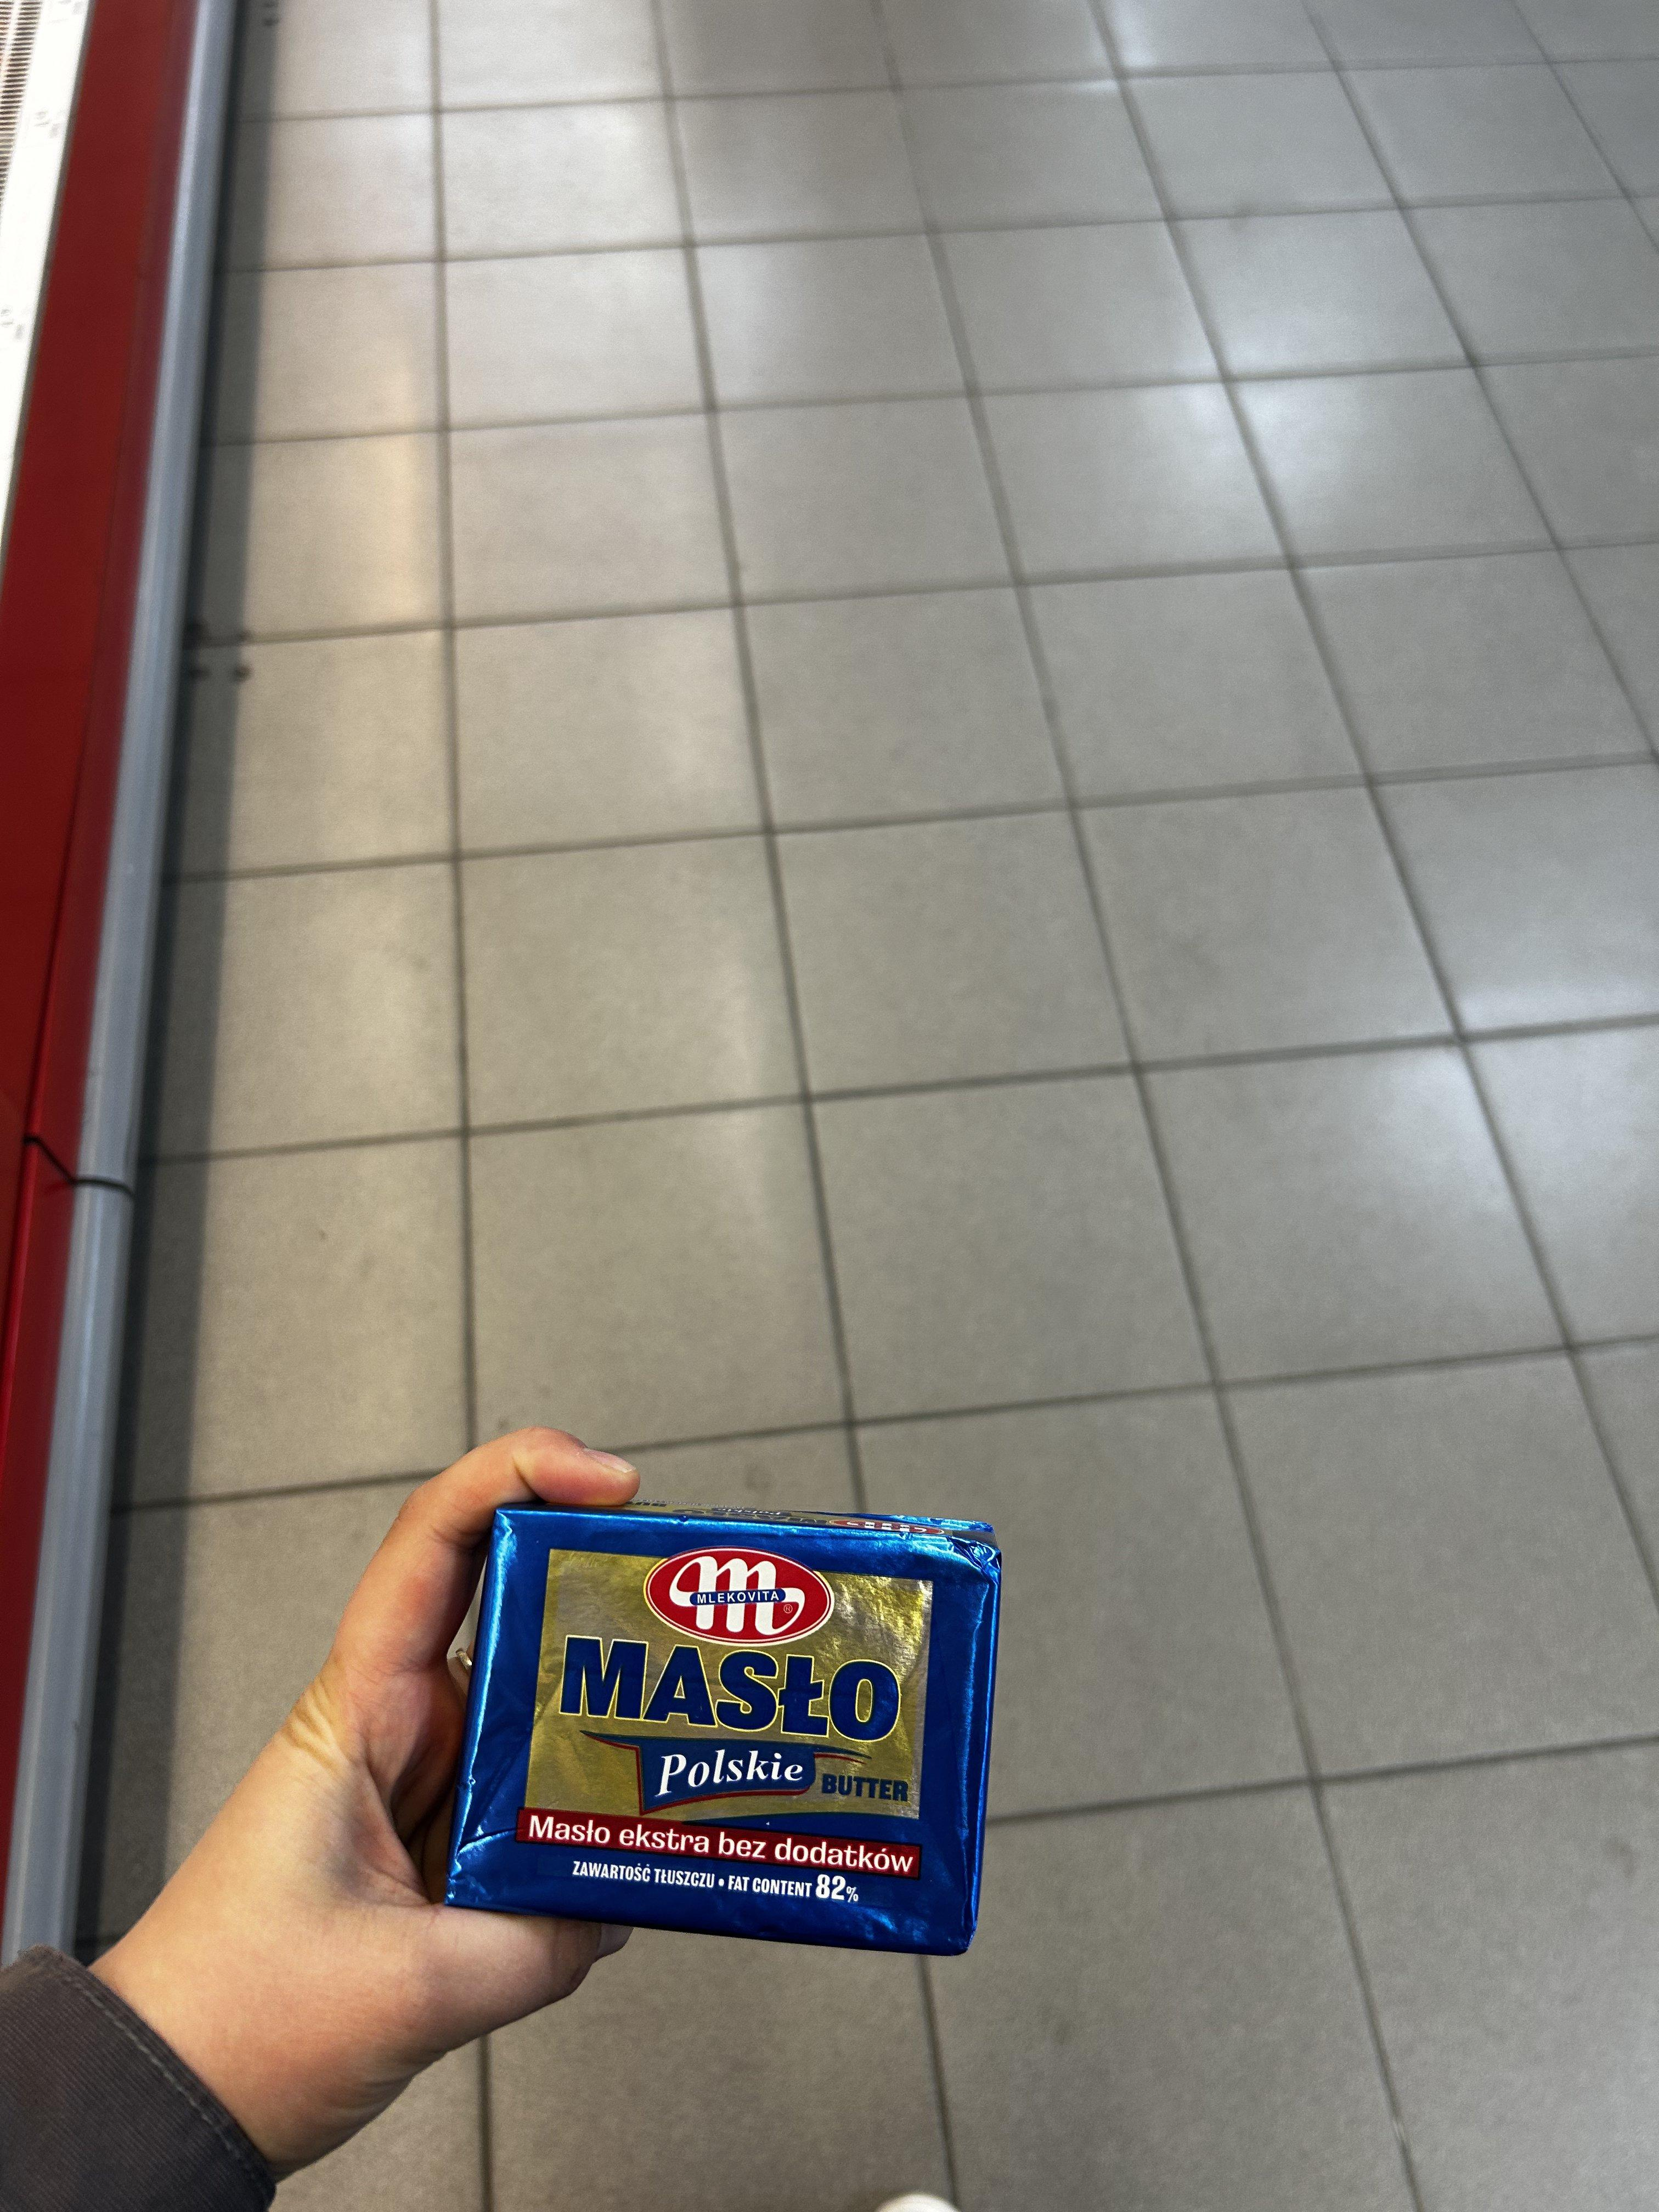Butter: (458, 1507, 990, 1963)
